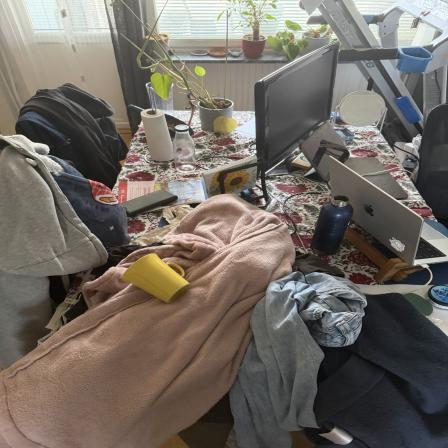blue_bottle: (314, 195, 352, 259)
phone: (115, 189, 182, 220)
yellow_cup: (116, 253, 192, 302)
